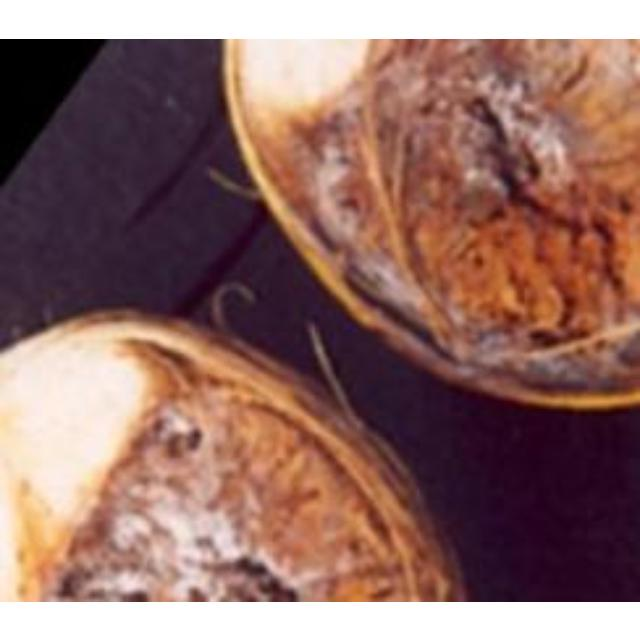damaged: (223, 38, 637, 413), (0, 306, 470, 599)
